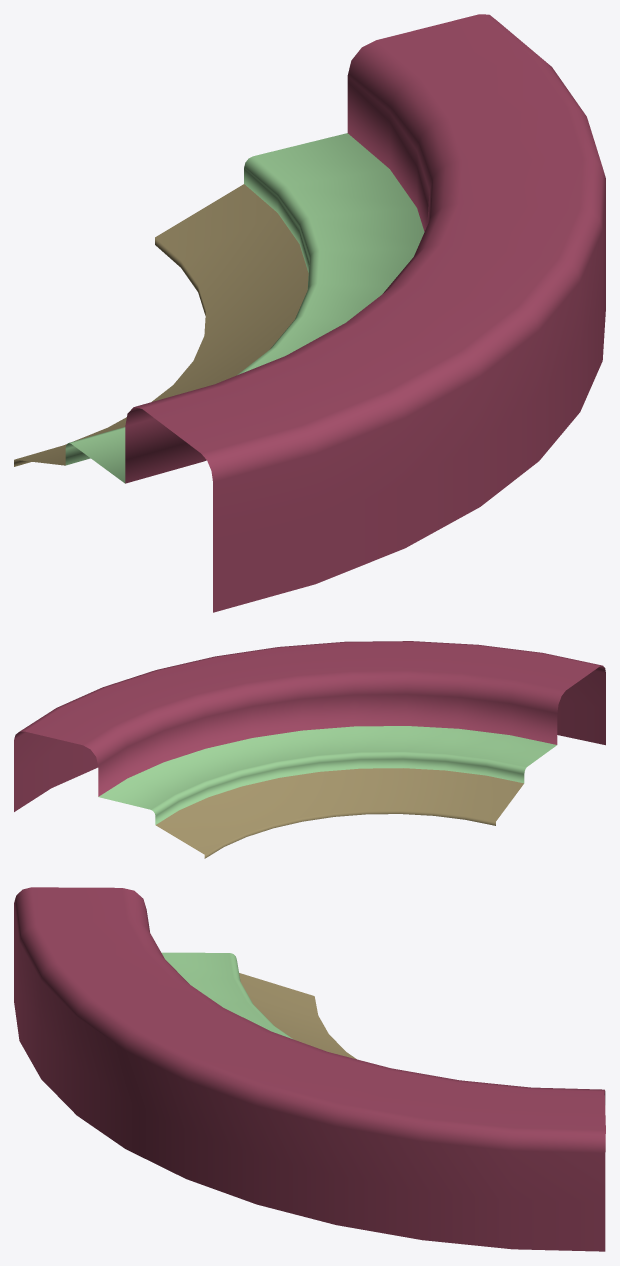
File: Stadium_CornerPiece.fbx
3 views of the same model, one above another, from view 1: azimuth 30°, elevation 25°; view 2: azimuth 150°, elevation 25°; view 3: azimuth 270°, elevation 25° (orthographic). The views are drawn at different scales.
Visible parts, largest first — view 1: Stadium_CornerPiece; view 2: Stadium_CornerPiece; view 3: Stadium_CornerPiece.
Boxes of the visible parts, box(x1,y1,x2,y2) form: Stadium_CornerPiece: box(14, 14, 605, 612); Stadium_CornerPiece: box(14, 641, 605, 858); Stadium_CornerPiece: box(14, 887, 605, 1251).
Bounding box in the file's own units: 1504 × 320 × 1504.
